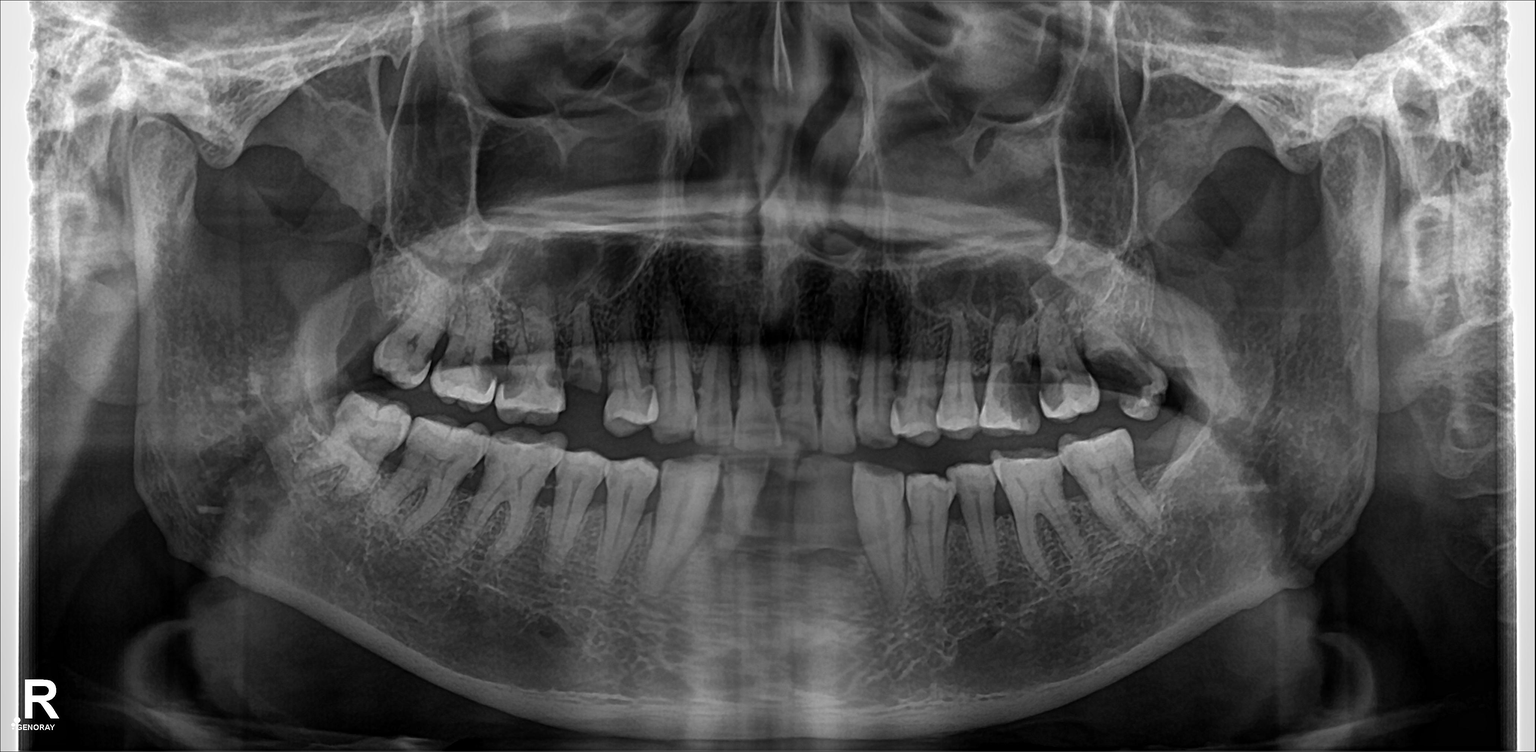Dental Caries: (987, 370, 1034, 423), (1101, 350, 1146, 395), (482, 348, 526, 390), (1032, 378, 1073, 413)
Missing Tooth: (797, 458, 861, 608), (753, 471, 802, 584), (1140, 426, 1186, 505)
Retained Root: (562, 307, 606, 420)
